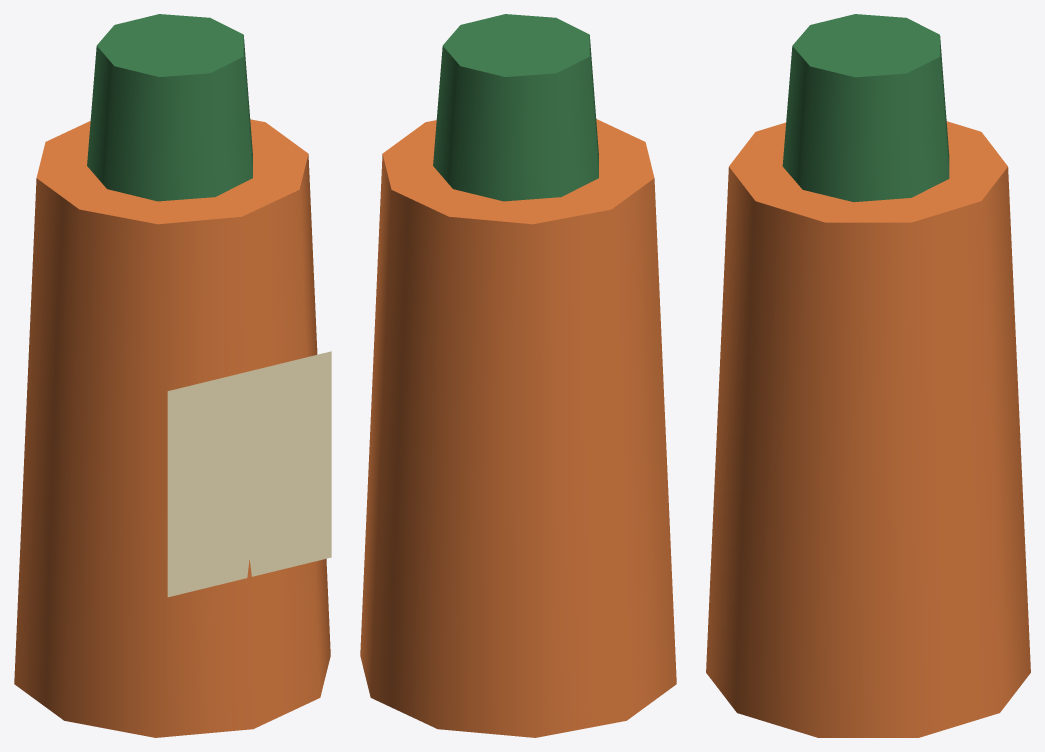
Rendered from product-juice.glb.
3 views of the same model, side by side, from view 1: azimuth 30°, elevation 25°; view 2: azimuth 150°, elevation 25°; view 3: azimuth 270°, elevation 25° (orthographic).
Visible parts, largest first — view 1: n3, n5, n4; view 2: n3, n4; view 3: n3, n4.
Boxes of the visible parts, box(x1,y1,x2,y2) form: n3: box(14, 119, 330, 737); n5: box(167, 351, 331, 597); n4: box(87, 14, 252, 201); n3: box(360, 119, 676, 737); n4: box(433, 14, 598, 201); n3: box(706, 121, 1030, 737); n4: box(782, 14, 949, 202).
Bounding box in the file's own units: 0.1217 × 0.2725 × 0.128.
